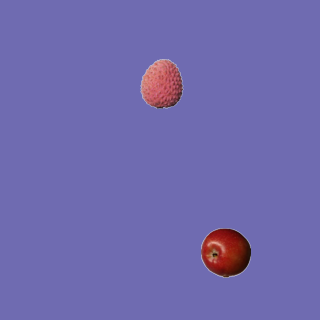Apple Braeburn: (200, 227, 250, 277)
Lychee: (136, 58, 186, 108)
